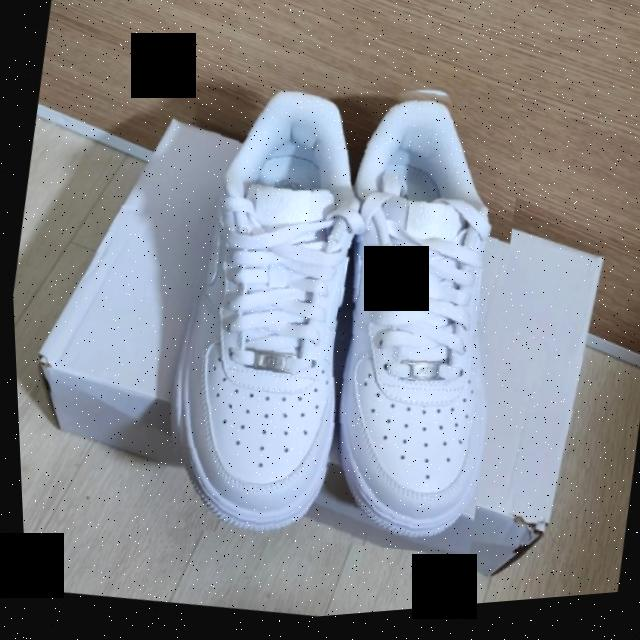shoe: (136, 45, 544, 582)
